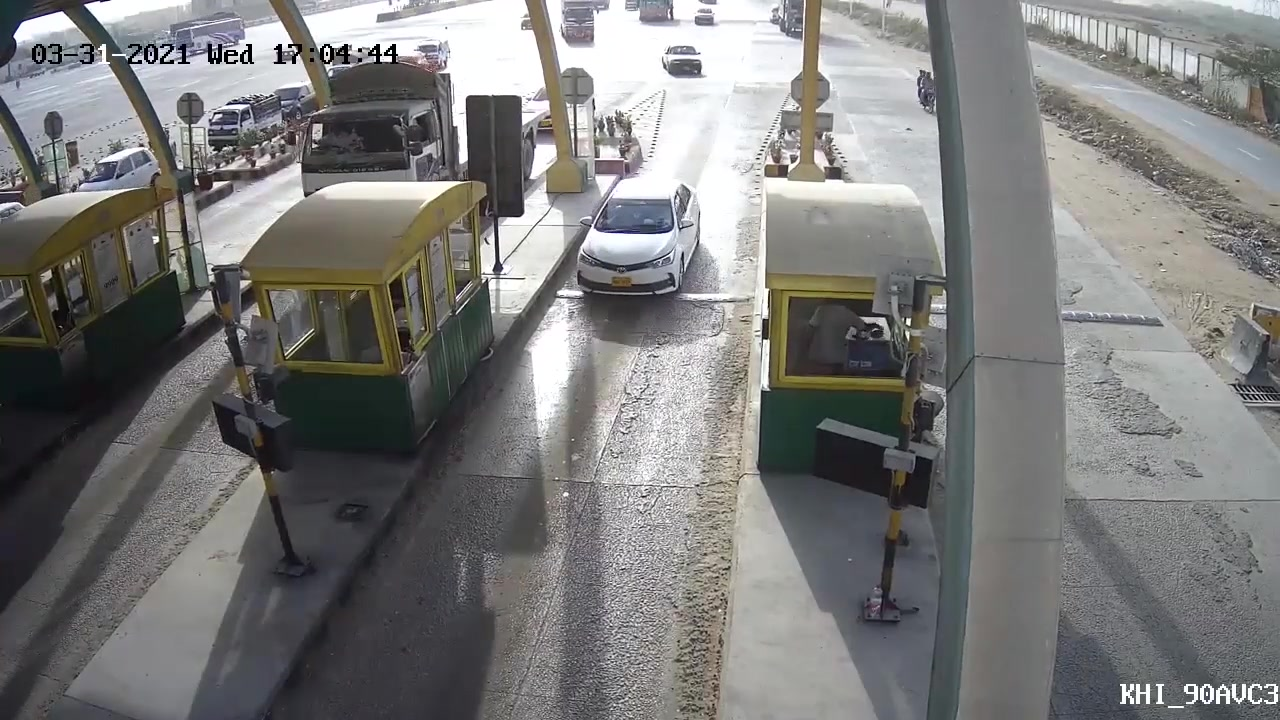F1: (570, 175, 703, 301), (660, 40, 709, 88)
